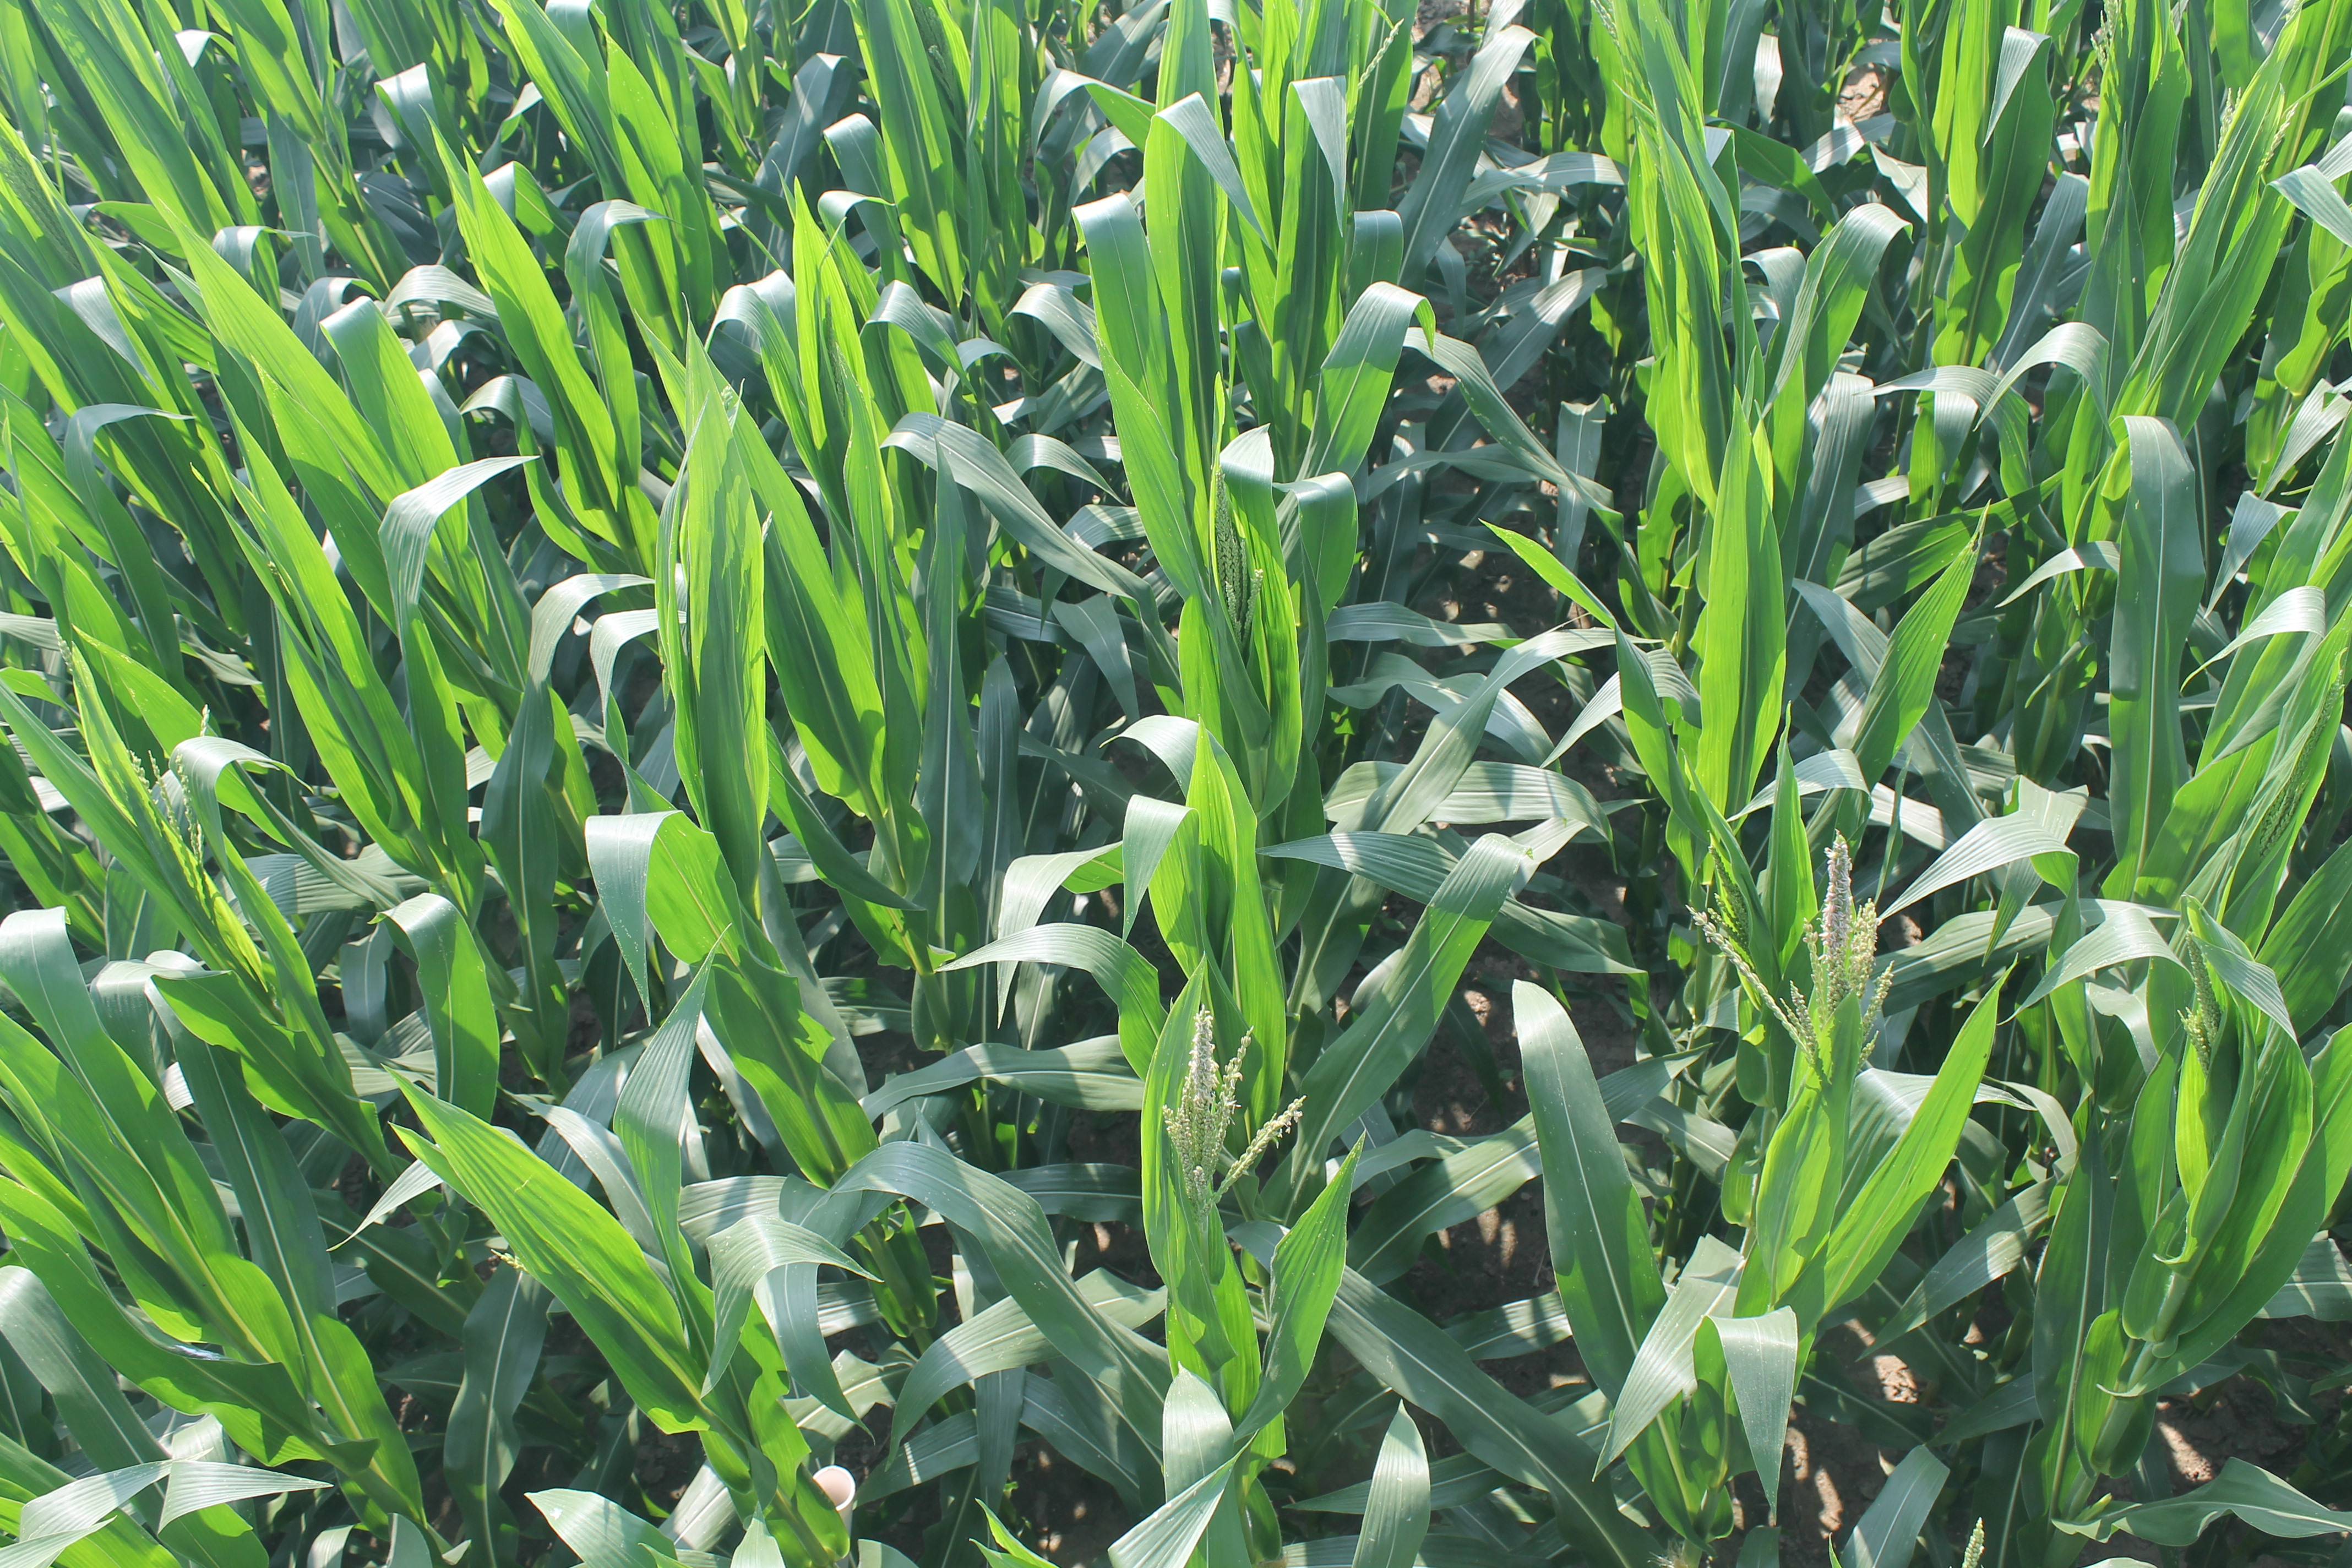Maize: (1164, 1004, 1309, 1200), (1759, 840, 1899, 1032)
